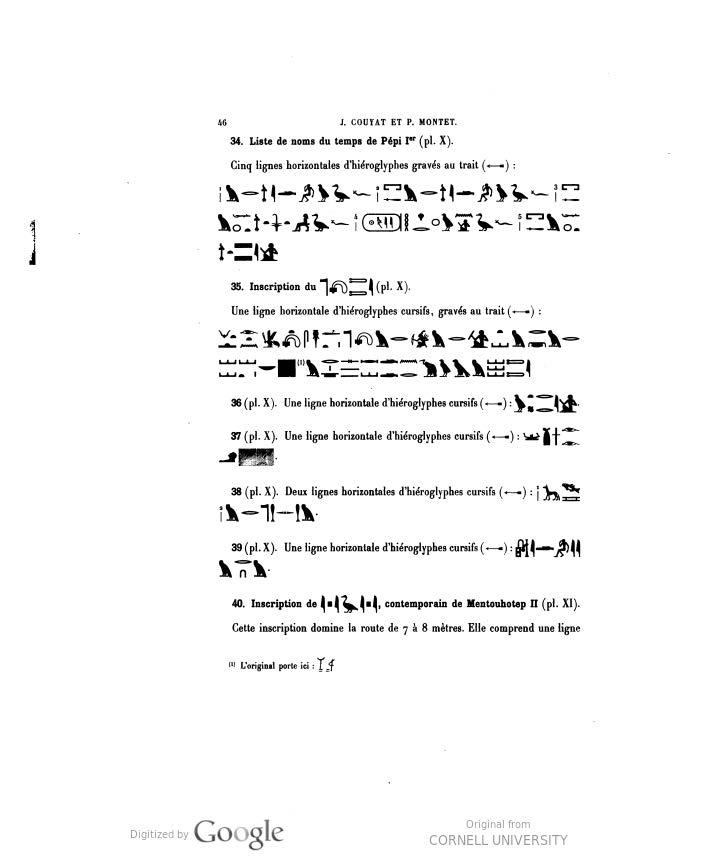circle: (360, 207, 408, 241)
